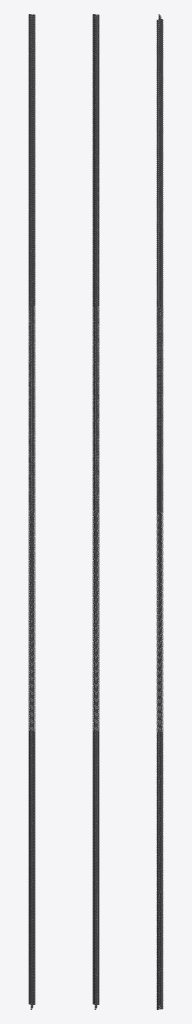
The model's file is SWORDLIGHT20_INST_CHAINC1M_LOD1_02.fbx.
The picture shows the model from 3 angles, left to right: view 1: azimuth 30°, elevation 25°; view 2: azimuth 210°, elevation 25°; view 3: azimuth 330°, elevation 25°; orthographic projection.
Visible parts, largest first — view 1: SWORDLIGHT20_INST_CHAINC1M_LOD1_02; view 2: SWORDLIGHT20_INST_CHAINC1M_LOD1_02; view 3: SWORDLIGHT20_INST_CHAINC1M_LOD1_02.
Boxes of the visible parts, x1=… form: SWORDLIGHT20_INST_CHAINC1M_LOD1_02: x1=28, y1=14, x2=35, y2=1009; SWORDLIGHT20_INST_CHAINC1M_LOD1_02: x1=92, y1=14, x2=99, y2=1009; SWORDLIGHT20_INST_CHAINC1M_LOD1_02: x1=156, y1=14, x2=163, y2=1009.
Bounding box in the file's own units: 843 × 171406 × 843.
Materials: 1 (1 with a texture image).
